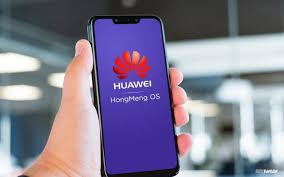huawei: (86, 11, 183, 177)
